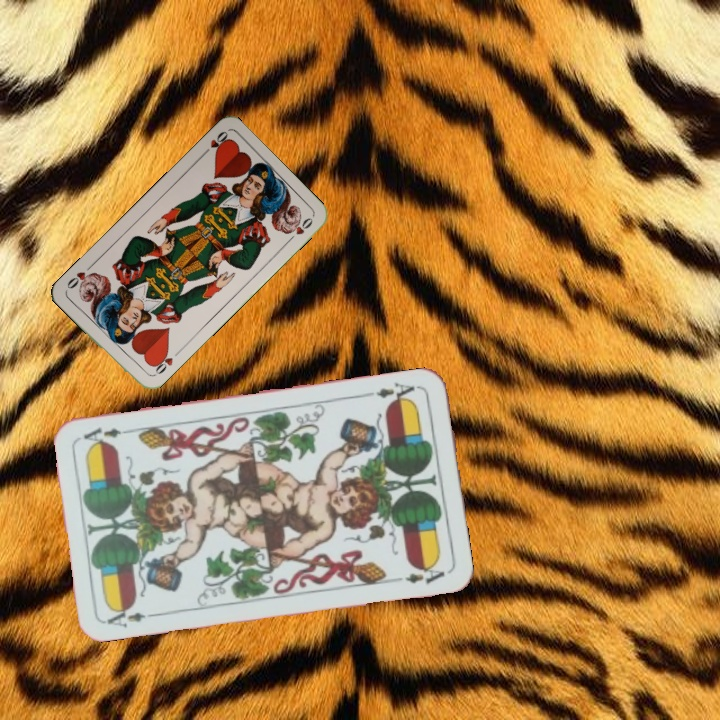EA: (103, 602, 161, 630), (372, 378, 422, 407)
HO: (197, 127, 232, 160), (148, 346, 182, 379)
